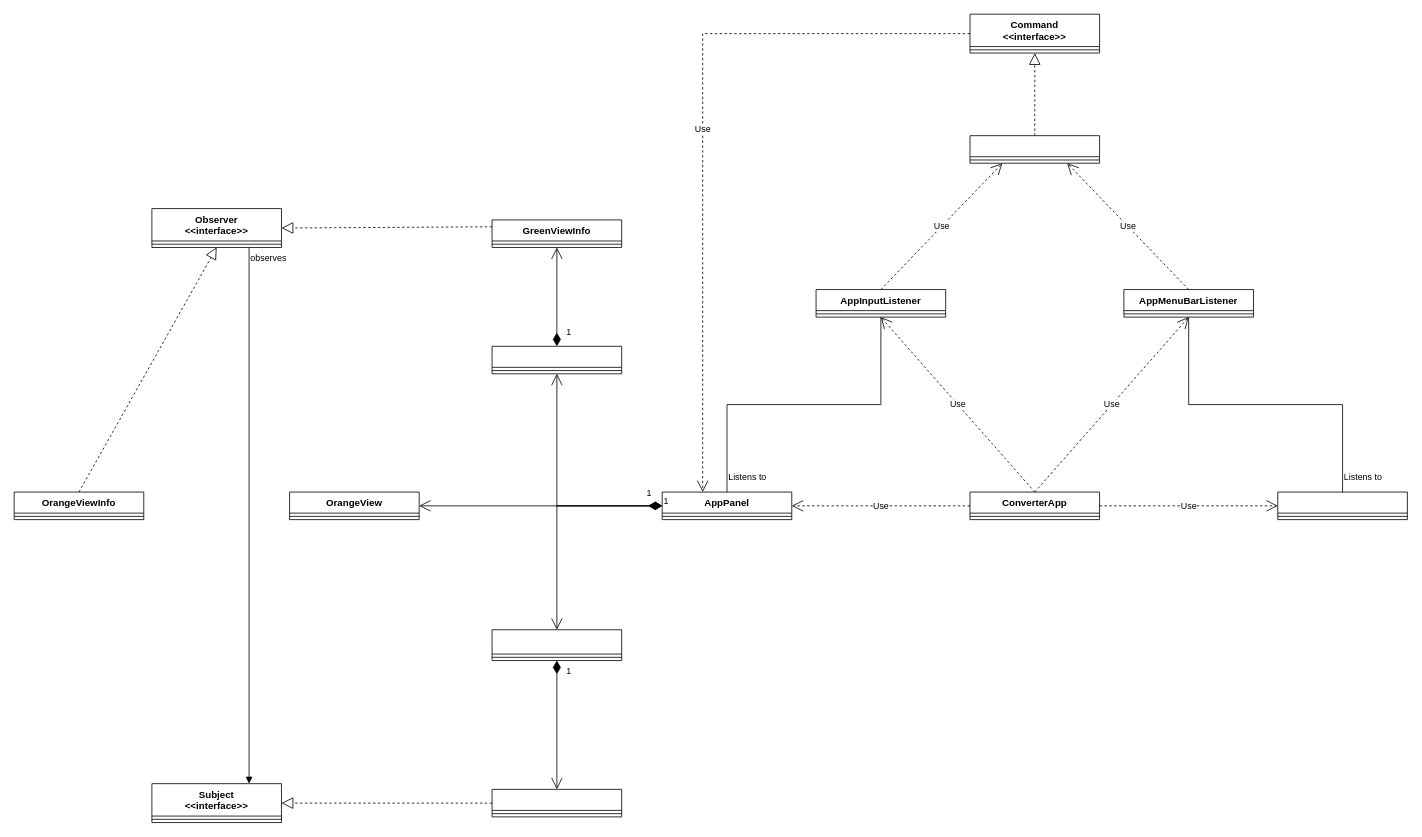
Some shapes in this 1422 by 837 pixel diagram are drawn without their labels. Here are the shapes that lost their labels. From the top down, the centre of each, then its label:
the point at 1034,149: SaveInputCentiCommand
the point at 556,359: GreenView
the point at 1342,505: AppMenuBar
the point at 556,645: YellowView
the point at 556,803: YellowViewInfo
